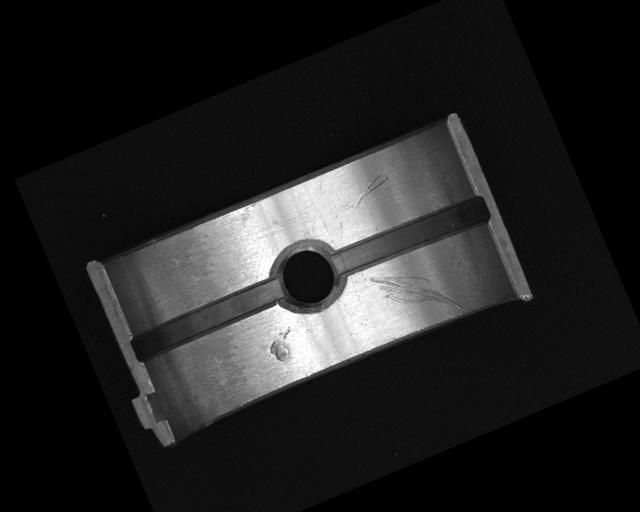bruise: (263, 326, 301, 364)
gap: (328, 190, 491, 283), (128, 274, 288, 362)
hole: (264, 233, 348, 319)
nick: (368, 250, 462, 338), (339, 171, 395, 213)
